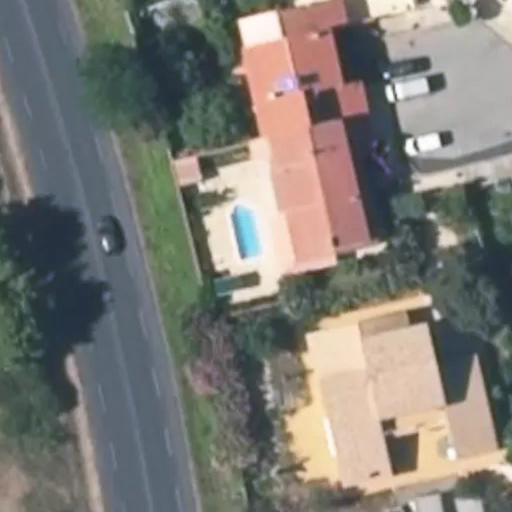pool: (235, 219, 276, 264)
